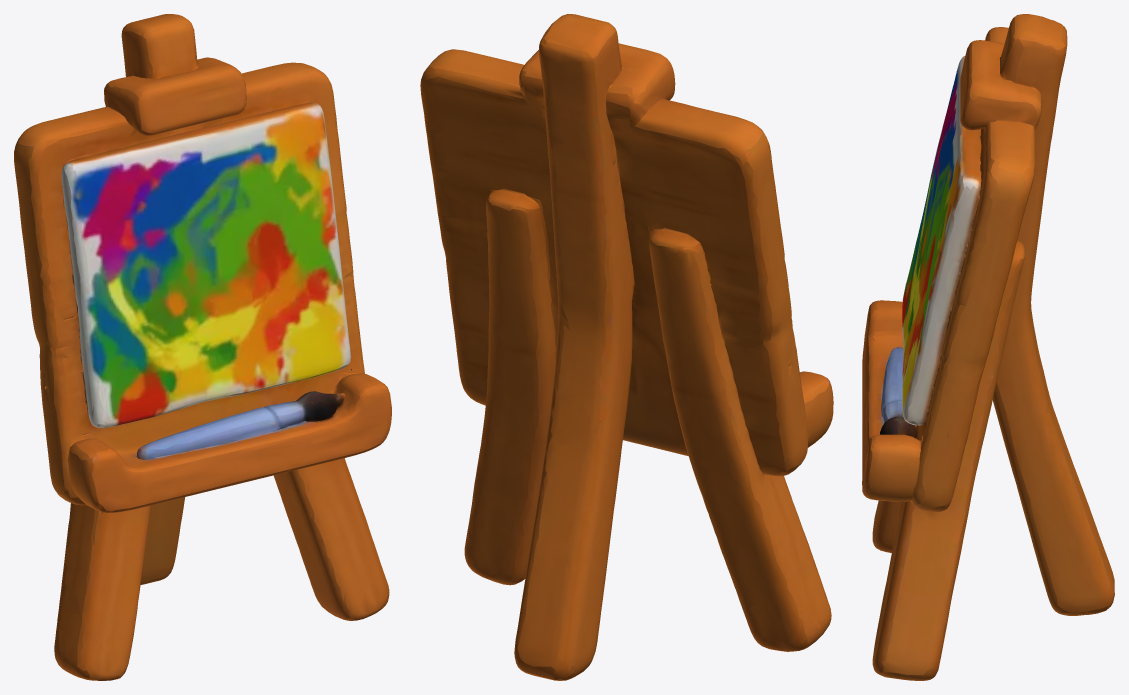
Rendered from x-easel.glb.
3 renders of one model, left to right at view 1: azimuth 30°, elevation 25°; view 2: azimuth 150°, elevation 25°; view 3: azimuth 270°, elevation 25°, orthographic. The views are drawn at different scales.
Visible parts, largest first — view 1: geometry_0; view 2: geometry_0; view 3: geometry_0.
Part boxes in pixels (x1,y1,x2,y2): geometry_0: (14, 14, 391, 680); geometry_0: (420, 14, 833, 680); geometry_0: (862, 14, 1114, 680).
Size of the model in its own units: 0.1255 by 0.22 by 0.0855.
1 material, 1 textured.
